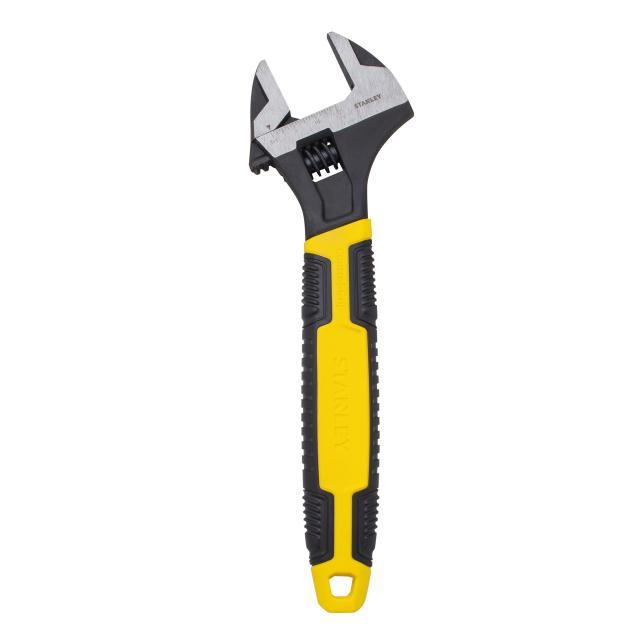wrench: (242, 27, 420, 620)
